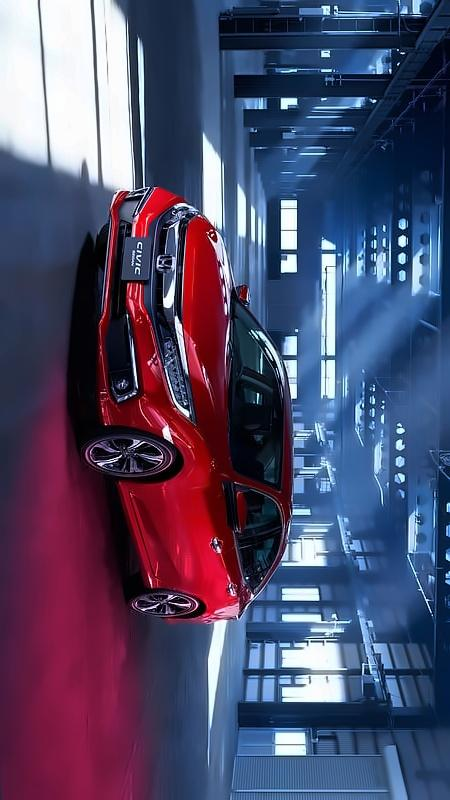Car hood: (182, 212, 233, 462)
Fender - -F-L-: (120, 407, 241, 491)
Front bumper: (89, 182, 171, 436)
Headlight - -L-: (154, 331, 201, 427)
Headlight - -R-: (154, 195, 207, 233)
Passenger-s door - -F-L-: (130, 491, 289, 555)
Passenger-s door - -R-L-: (144, 553, 283, 607)
Rear bumper: (158, 611, 232, 631)
Side mirror - -L-: (221, 483, 252, 536)
Side mirror - -R-: (232, 279, 258, 313)
